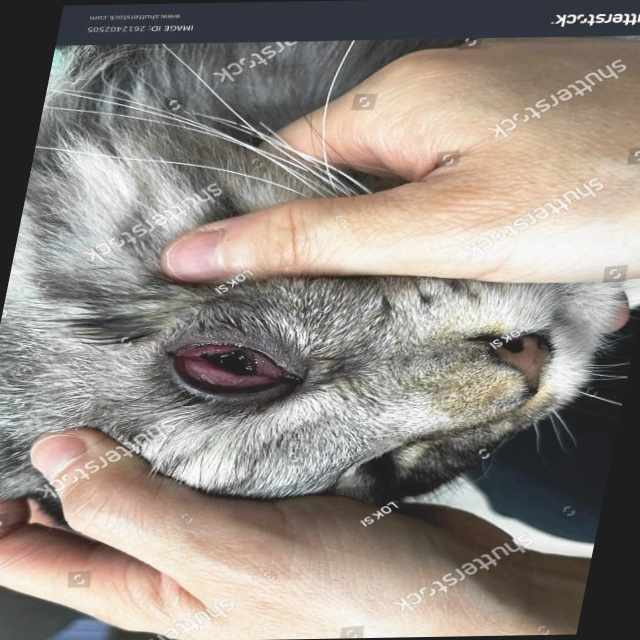eye_infection: (159, 340, 301, 399)
